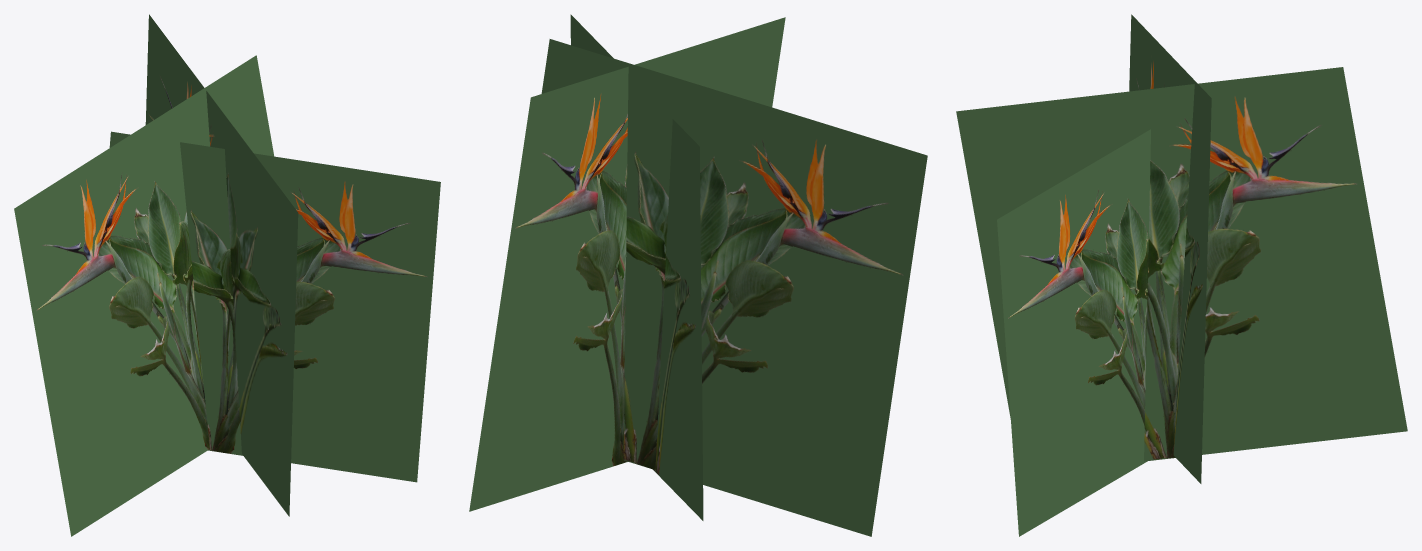
Rendered from gs_flower16.glb.
3 views of the same model, side by side, from view 1: azimuth 30°, elevation 25°; view 2: azimuth 150°, elevation 25°; view 3: azimuth 270°, elevation 25° (orthographic). The views are drawn at different scales.
Visible parts, largest first — view 1: Plane01; view 2: Plane01; view 3: Plane01.
Boxes of the visible parts, <box> form: Plane01: <box>14,14,440,536</box>; Plane01: <box>469,14,927,536</box>; Plane01: <box>956,14,1407,536</box>.
Size of the model in its own units: 74.72 by 78.91 by 75.52.
1 material, 1 textured.
